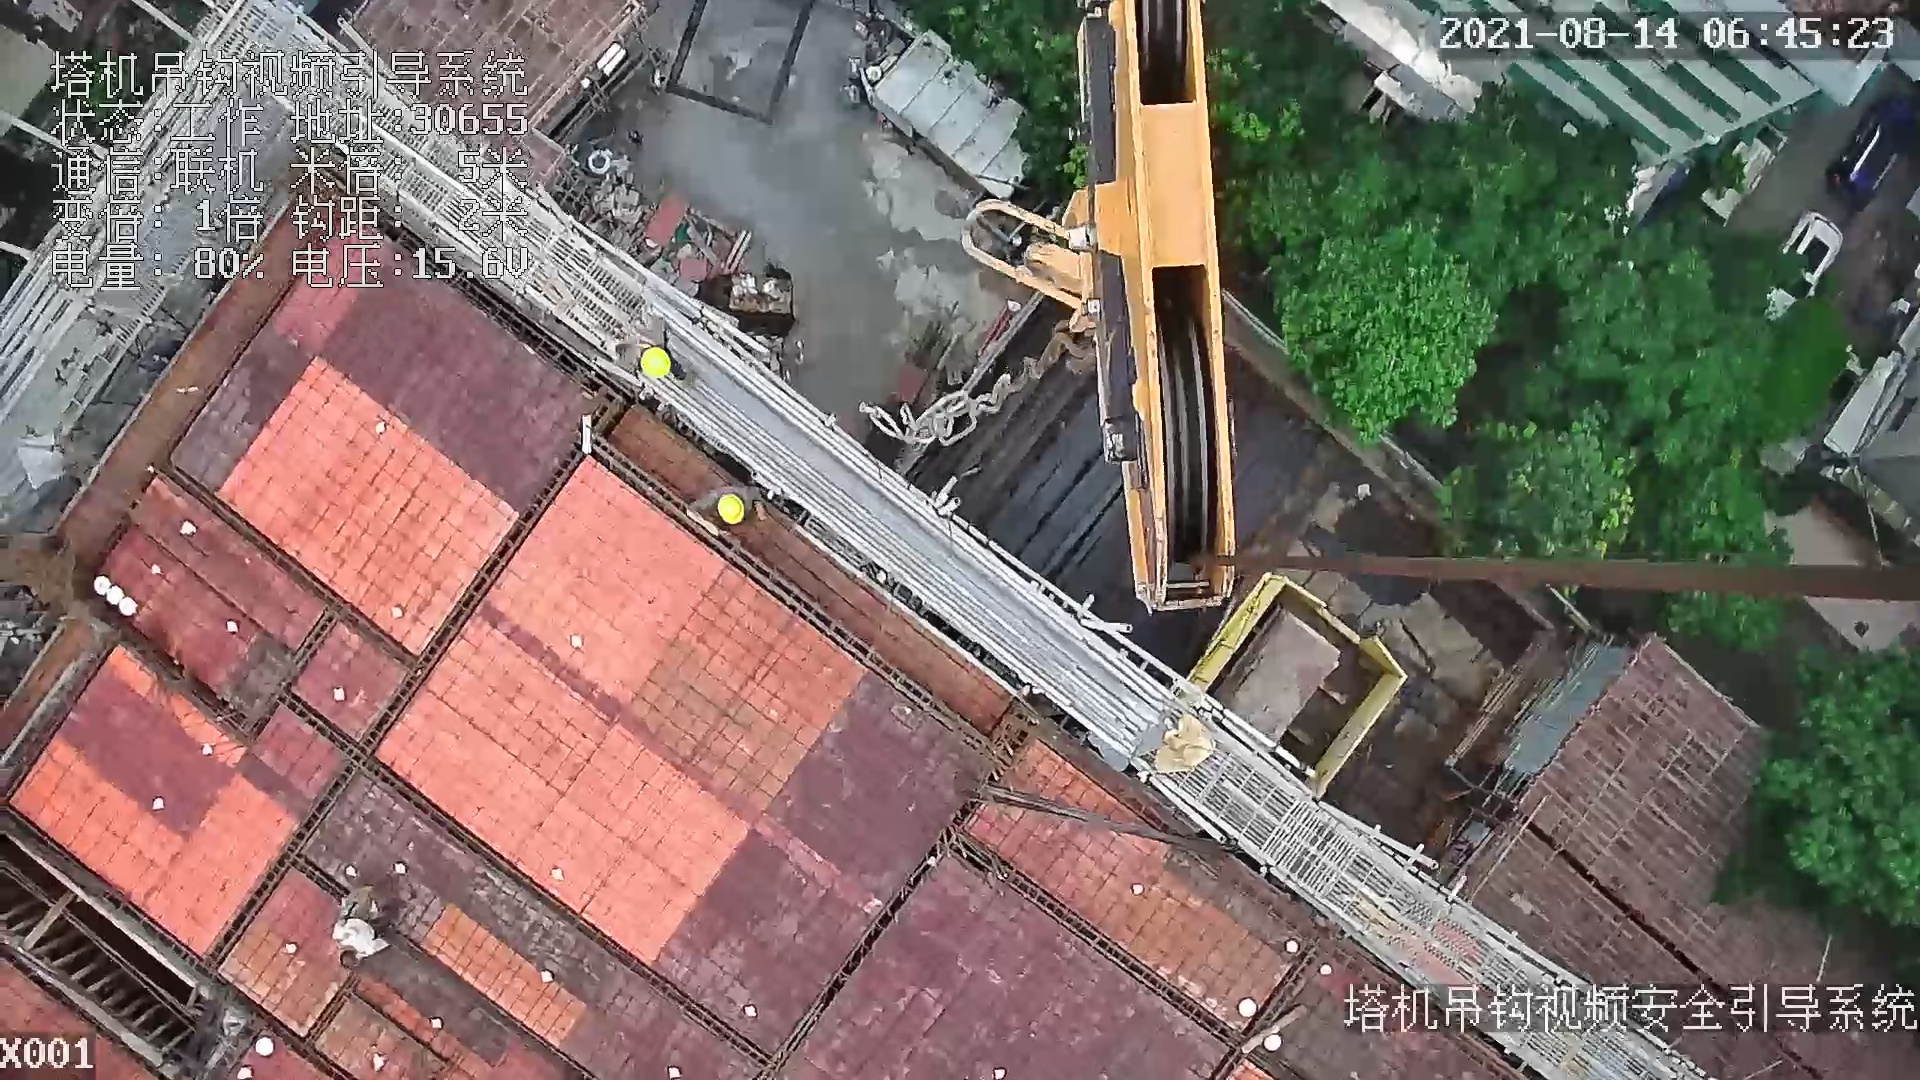board: (1226, 601, 1338, 753)
helmet: (715, 493, 752, 524), (638, 348, 673, 378)
hook: (959, 1, 1237, 617)
person: (614, 327, 703, 395), (681, 486, 778, 544), (328, 883, 388, 976)
